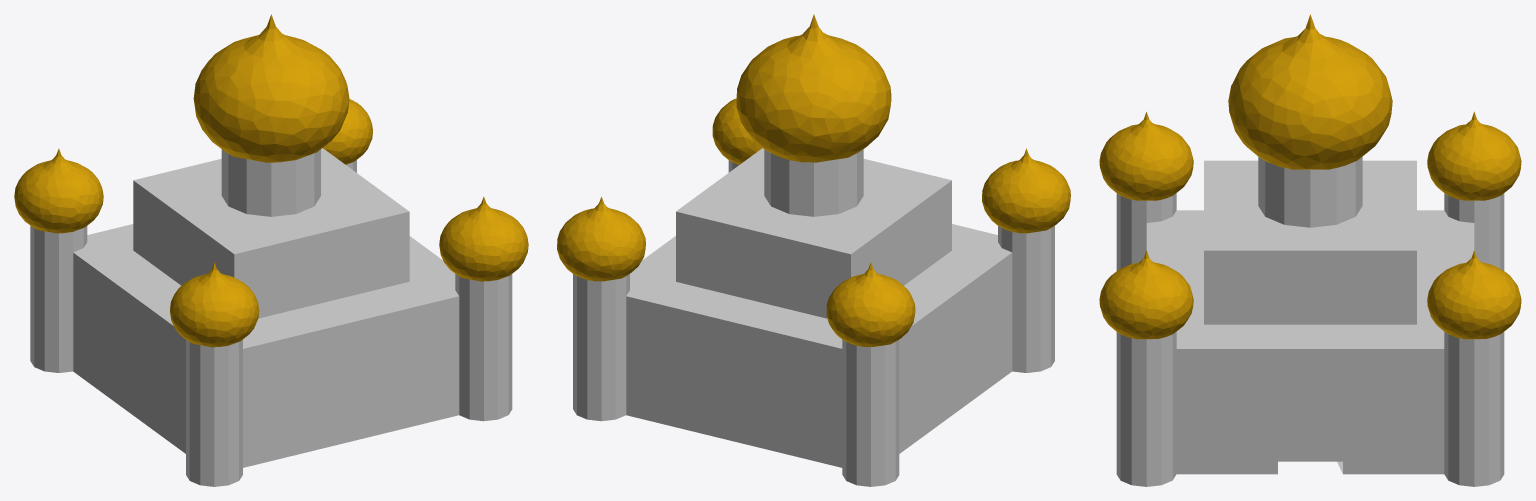
The model's file is Palace.fbx.
3 renders of one model, left to right at view 1: azimuth 30°, elevation 25°; view 2: azimuth 150°, elevation 25°; view 3: azimuth 270°, elevation 25°, orthographic. The views are drawn at different scales.
Parts seen in each view (by area): view 1: Cylinder.002; view 2: Cylinder.002; view 3: Cylinder.002.
Part boxes in pixels (x1,y1,x2,y2): Cylinder.002: [14, 14, 528, 486]; Cylinder.002: [557, 14, 1070, 486]; Cylinder.002: [1099, 14, 1521, 486].
Bounding box in the file's own units: 257 × 263 × 258.
